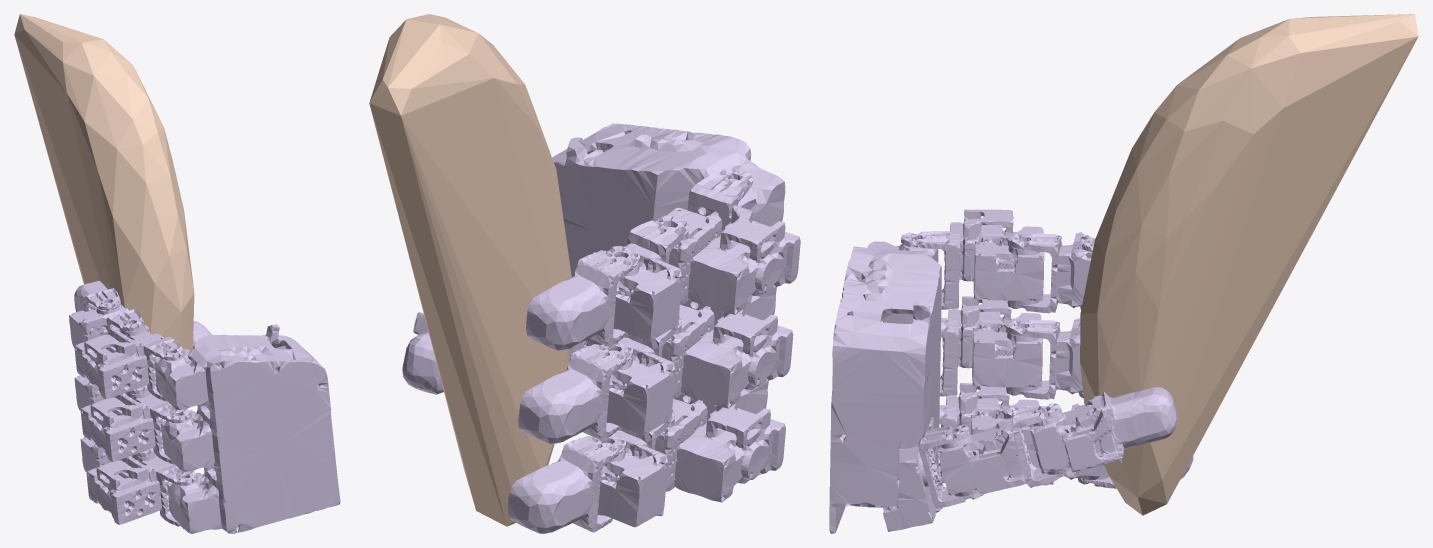
The model's file is 55af7a30345afc-final.glb.
3 renders of one model, left to right at view 1: azimuth 30°, elevation 25°; view 2: azimuth 150°, elevation 25°; view 3: azimuth 270°, elevation 25°, orthographic. The views are drawn at different scales.
Parts seen in each view (by area): view 1: LEAP_hand, world; view 2: LEAP_hand, world; view 3: world, LEAP_hand.
Boxes of the visible parts, x1,y1,x2,y2 form: LEAP_hand: (69, 281, 340, 533); world: (14, 14, 194, 350); LEAP_hand: (402, 123, 800, 533); world: (369, 14, 571, 526); world: (1080, 14, 1418, 515); LEAP_hand: (829, 209, 1193, 533).
Bounding box in the file's own units: 0.1491 × 0.2639 × 0.2903.
